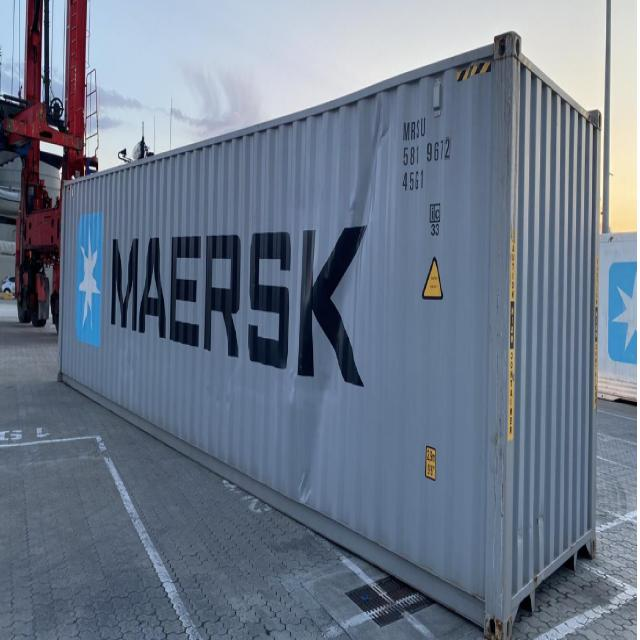dent: (276, 97, 394, 520)
